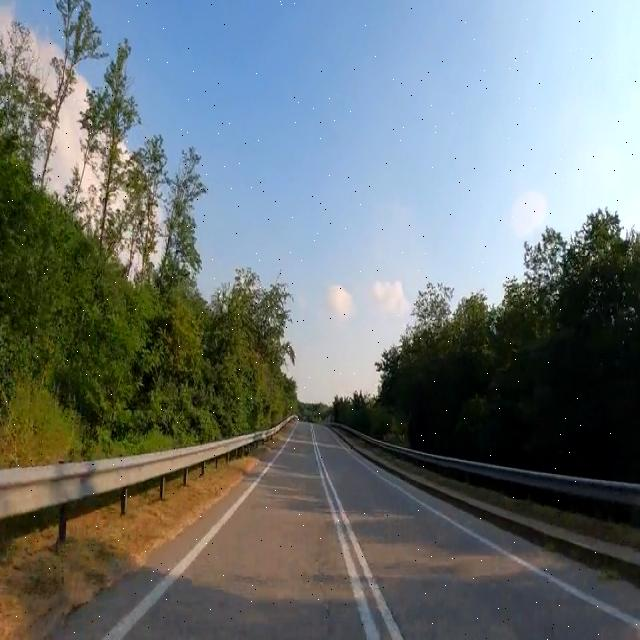lane: (372, 472, 640, 630), (104, 434, 292, 640), (311, 427, 403, 639), (312, 427, 380, 640)
road: (55, 423, 640, 638)
